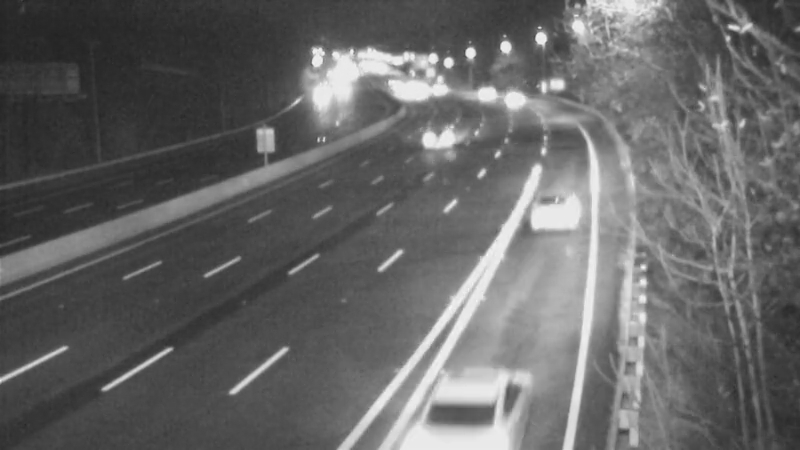vehicle: (396, 355, 506, 450), (516, 172, 596, 252), (453, 64, 503, 114), (484, 71, 534, 121), (414, 109, 464, 159), (297, 71, 347, 121)
